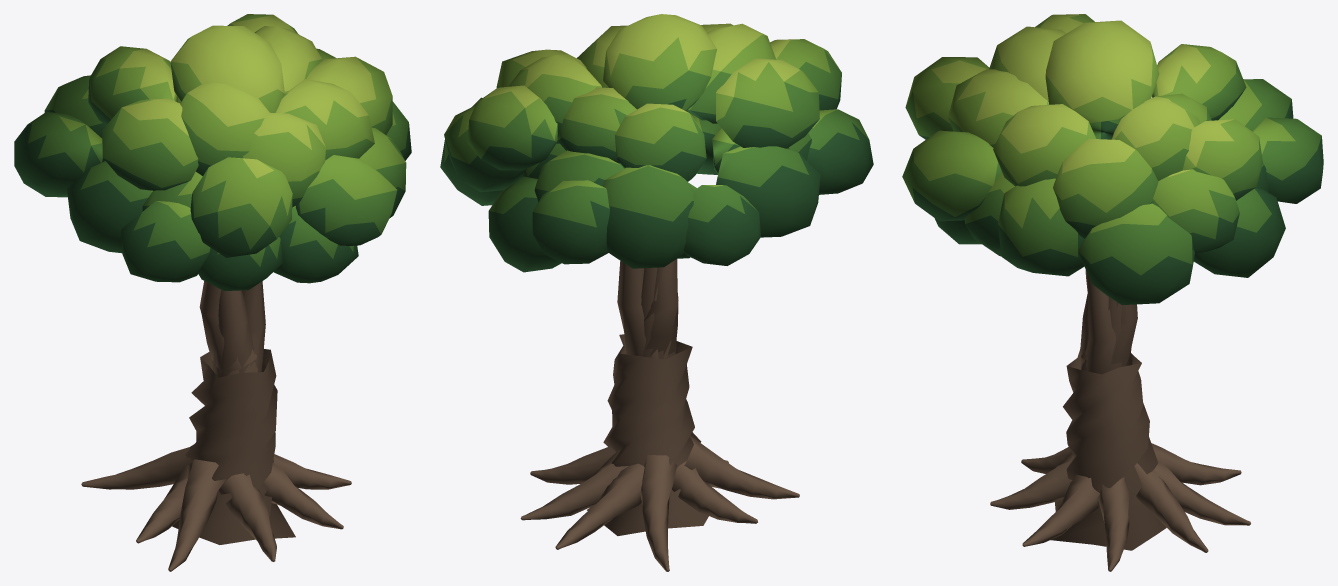
Rendered from AncientOakB_LOD.glb.
3 renders of one model, left to right at view 1: azimuth 30°, elevation 25°; view 2: azimuth 150°, elevation 25°; view 3: azimuth 270°, elevation 25°, orthographic.
Visible parts, largest first — view 1: AncientOakB_LOD.bark, AncientOakB_LOD.leafMid, AncientOakB_LOD.leafLight, AncientOakB_LOD.leafDark, AncientOakB_LOD.leafGold; view 2: AncientOakB_LOD.leafDark, AncientOakB_LOD.bark, AncientOakB_LOD.leafMid, AncientOakB_LOD.leafLight, AncientOakB_LOD.leafGold; view 3: AncientOakB_LOD.leafLight, AncientOakB_LOD.bark, AncientOakB_LOD.leafGold, AncientOakB_LOD.leafMid, AncientOakB_LOD.leafDark.
Part boxes in pixels (x1=…): AncientOakB_LOD.bark: x1=81, y1=281, x2=351, y2=571; AncientOakB_LOD.leafMid: x1=28, y1=24, x2=408, y2=266; AncientOakB_LOD.leafLight: x1=59, y1=14, x2=405, y2=225; AncientOakB_LOD.leafDark: x1=14, y1=80, x2=411, y2=290; AncientOakB_LOD.leafGold: x1=120, y1=14, x2=375, y2=178; AncientOakB_LOD.leafDark: x1=440, y1=75, x2=873, y2=272; AncientOakB_LOD.bark: x1=520, y1=259, x2=799, y2=571; AncientOakB_LOD.leafMid: x1=444, y1=49, x2=868, y2=227; AncientOakB_LOD.leafLight: x1=444, y1=24, x2=840, y2=192; AncientOakB_LOD.leafGold: x1=484, y1=14, x2=802, y2=116; AncientOakB_LOD.leafLight: x1=906, y1=14, x2=1295, y2=233; AncientOakB_LOD.bark: x1=990, y1=270, x2=1250, y2=571; AncientOakB_LOD.leafGold: x1=931, y1=14, x2=1234, y2=177; AncientOakB_LOD.leafMid: x1=902, y1=61, x2=1321, y2=275; AncientOakB_LOD.leafDark: x1=913, y1=88, x2=1323, y2=305.
Size of the model in its own units: 63.64 by 87.24 by 66.91.
